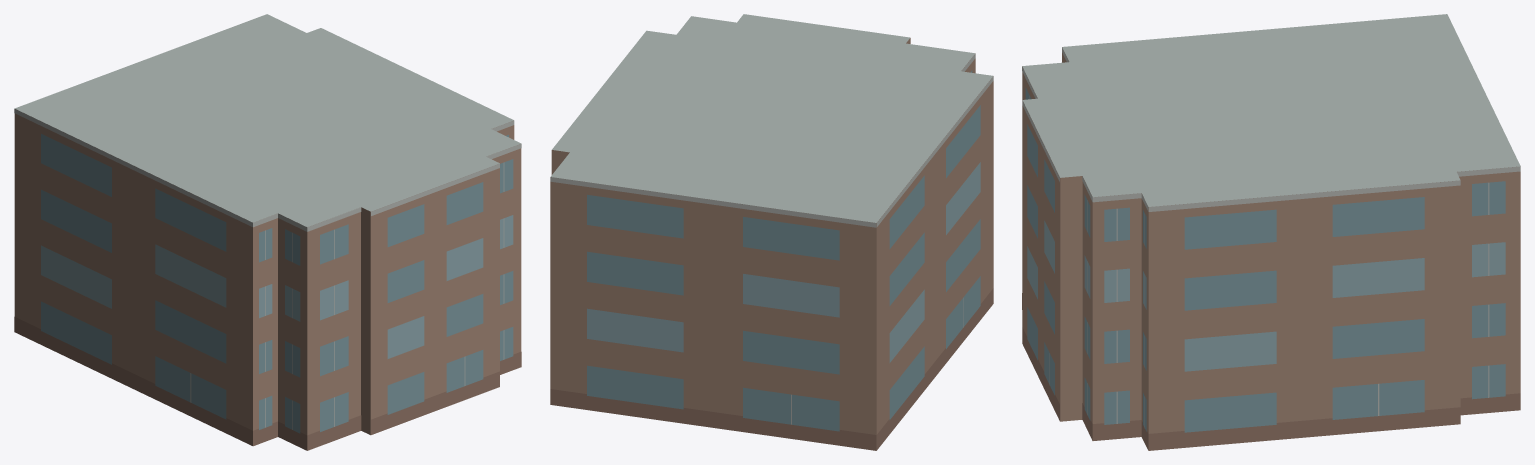
The model's file is survey-upis-32804994.glb.
3 views of the same model, side by side, from view 1: azimuth 30°, elevation 25°; view 2: azimuth 150°, elevation 25°; view 3: azimuth 270°, elevation 25° (orthographic). The views are drawn at different scales.
Parts seen in each view (by area): view 1: survey-upis-32804994.tmp; view 2: survey-upis-32804994.tmp; view 3: survey-upis-32804994.tmp.
Boxes of the visible parts, x1,y1,x2,y2 form: survey-upis-32804994.tmp: [14, 14, 521, 450]; survey-upis-32804994.tmp: [550, 14, 993, 450]; survey-upis-32804994.tmp: [1022, 14, 1520, 450].
Size of the model in its own units: 19.88 by 11.7 by 21.69.
